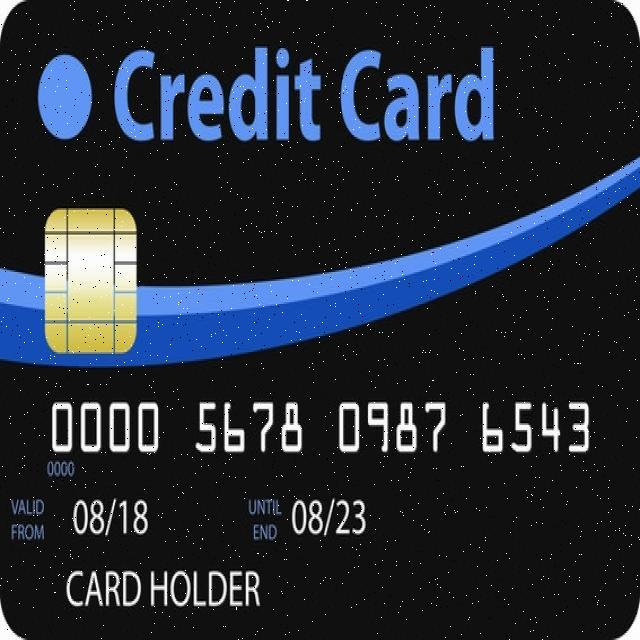payment_card: (1, 1, 638, 637)
